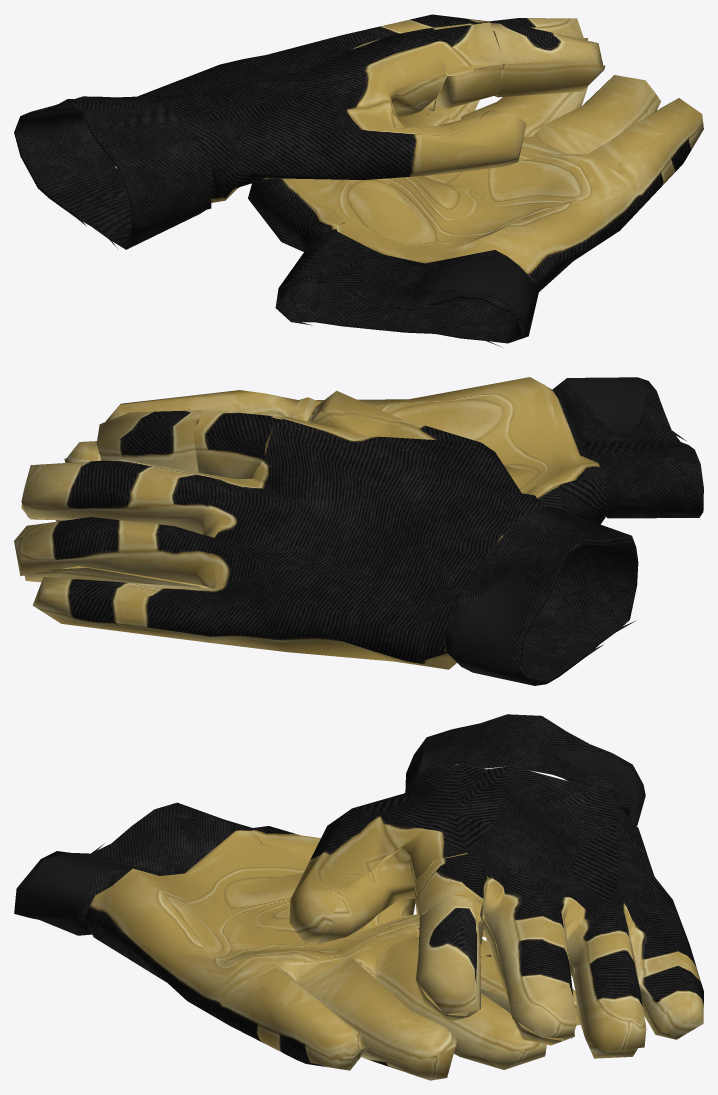
File: safety_gloves.glb
The picture shows the model from 3 angles, top to bottom: view 1: azimuth 30°, elevation 25°; view 2: azimuth 150°, elevation 25°; view 3: azimuth 270°, elevation 25°; orthographic projection. The views are drawn at different scales.
Visible parts, largest first — view 1: Mechanical_Gloves; view 2: Mechanical_Gloves; view 3: Mechanical_Gloves.
Part boxes in pixels (x1,y1,x2,y2): Mechanical_Gloves: [14, 14, 703, 347]; Mechanical_Gloves: [14, 377, 703, 685]; Mechanical_Gloves: [14, 714, 703, 1080].
Bounding box in the file's own units: 2.73 × 0.6081 × 2.95.
1 material, 1 textured.
